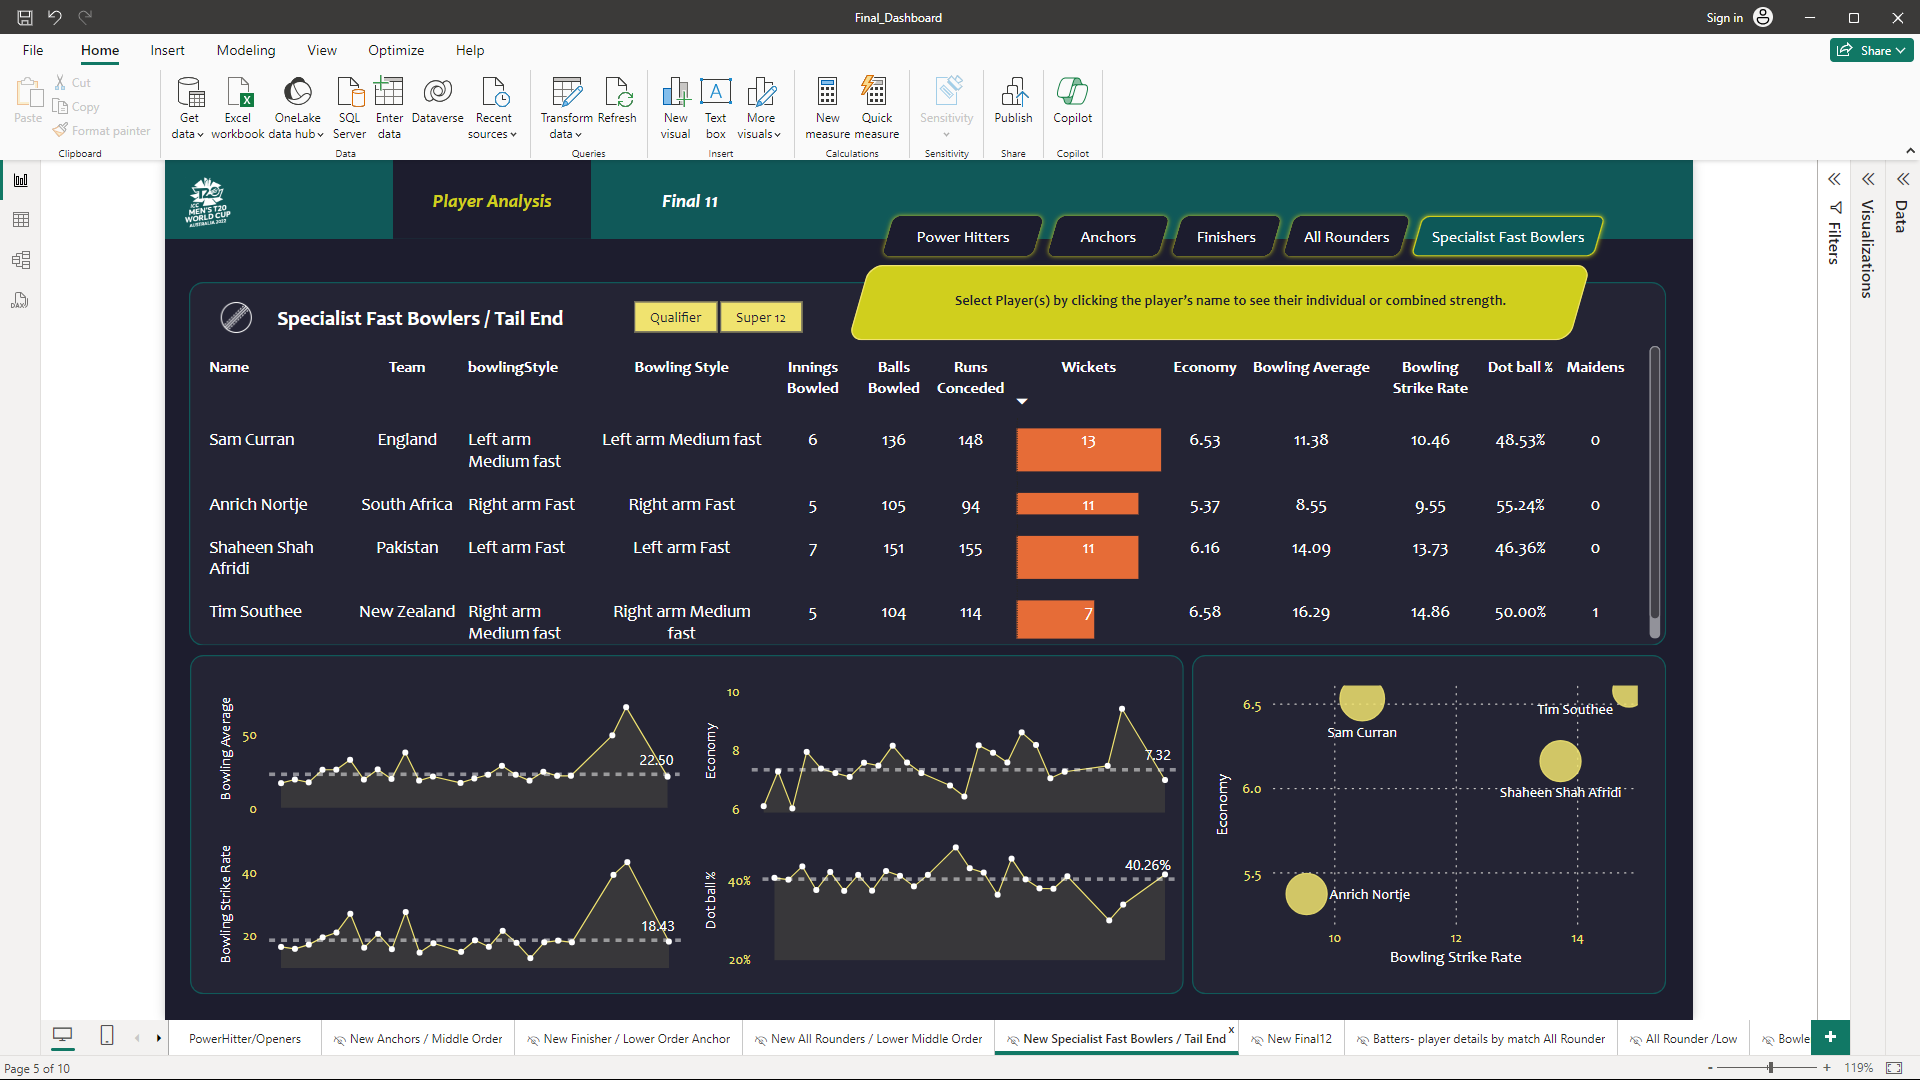

The dashboard page shown, as its layout file describes it:
{"tool":"powerbi","page":{"name":"New Specialist Fast Bowlers / Tail End","canvas":[1280,720],"ordinal":4},"visuals":[{"type":"shape","box":[0,66,1280,654],"z":0},{"type":"group","id":"g1","title":"Group 2","box":[83.8,116.2,260,31.2],"z":0,"group":"g2"},{"type":"shape","box":[83.8,116.2,260,31.2],"z":0,"group":"g1"},{"type":"image","box":[38,114,44,36],"z":1000,"group":"g2"},{"type":"shape","box":[21,414,832,284],"z":1000},{"type":"actionButton","title":"Button Anchores","box":[734,42.6,111,42],"z":2000},{"type":"actionButton","title":"Button  Power Hitters","box":[596,42.6,144,42],"z":3000},{"type":"card","fields":{"Values":["Key_Measures.Bowling Strike Rate"]},"box":[867,89,93,60],"z":3500,"group":"g3"},{"type":"actionButton","title":"Button Finishers","box":[838,42.6,101,42],"z":4000},{"type":"card","fields":{"Values":["Key_Measures.Bowling Average"]},"box":[768,89,92,60],"z":4000,"group":"g3"},{"type":"card","fields":{"Values":["Key_Measures.Dot ball %"]},"box":[1073,89,100,60],"z":4500,"group":"g3"},{"type":"actionButton","title":"Button All Rounders","box":[932,42.6,115,42],"z":5000},{"type":"card","fields":{"Values":["Key_Measures.Economy"]},"box":[966,89,101,60],"z":5000,"group":"g3"},{"type":"actionButton","title":"Button Fast Bowler selected","box":[1039,42.6,171,42],"z":6000},{"type":"image","box":[11.8,6.9,48,58.8],"z":7000},{"type":"shape","box":[860,414,397,284],"z":9000},{"type":"shape","box":[20,102.2,1236.7,304.4],"z":10000},{"type":"slicer","fields":{"Values":["dim_match_summary.stage"]},"box":[366.7,111.1,191.1,38.9],"z":11000},{"type":"tableEx","fields":{"Values":["dim_player.name","Min(dim_player.team)","dim_player.bowlingStyle","Min(dim_player.Bowling Style)","Key_Measures.Total Innings Bowled","Key_Measures.Balls Bowled","Key_Measures.Runs Conceded","Key_Measures.wickets","Key_Measures.Economy","Key_Measures.Bowling Average","Key_Measures.Bowling Strike Rate","Key_Measures.Dot ball %"]},"box":[26,151,1231,255],"z":12000},{"type":"shape","box":[572,88,622,63],"z":13000},{"type":"group","id":"g2","title":"Group 1","box":[38,114,305.8,36],"z":15000},{"type":"scatterChart","fields":{"Category":["dim_player.name"],"X":["Key_Measures.Bowling Strike Rate"],"Y":["Key_Measures.Economy"],"Size":["Key_Measures.wickets"]},"box":[874,427,370,253.8],"z":16000},{"type":"actionButton","title":"Button Player Ana selected","box":[191,0,166,66],"z":17000},{"type":"actionButton","title":"Button Player Ana selected","box":[357,0,166,66],"z":18000},{"type":"areaChart","fields":{"Category":["dim_match_summary.Match_Date.Variation.Date Hierarchy.Day"],"Y":["Key_Measures.Economy"]},"box":[446,430,406,126],"z":19000},{"type":"areaChart","fields":{"Category":["dim_match_summary.Match_Date.Variation.Date Hierarchy.Day"],"Y":["Key_Measures.Dot ball %"]},"box":[446,556,406,126],"z":20000},{"type":"areaChart","fields":{"Category":["dim_match_summary.Match_Date.Variation.Date Hierarchy.Day"],"Y":["Key_Measures.Bowling Average"]},"box":[40,428.9,395.6,126.7],"z":21000},{"type":"areaChart","fields":{"Category":["dim_match_summary.Match_Date.Variation.Date Hierarchy.Day"],"Y":["Key_Measures.Bowling Strike Rate"]},"box":[40,555.6,396.7,125.6],"z":22000},{"type":"shape","box":[595,103,173,34],"z":25000},{"type":"group","id":"g3","title":"Combined Perfoamce Metrices","box":[768,89,405,60],"z":25500},{"type":"shape","box":[612,100,560,36],"z":26001}]}

Visuals, with their boxes on the page's 1280x720 design canvas (x1, y1, x2, y2). These are canvas units, not pixel positions in the 1920x1080 screenshot, which may show the page scaled, cropped or inside an application window:
shape: pyautogui.locateOnScreen(0, 66, 1280, 720)
"Group 2" group: pyautogui.locateOnScreen(84, 116, 344, 147)
shape: pyautogui.locateOnScreen(84, 116, 344, 147)
image: pyautogui.locateOnScreen(38, 114, 82, 150)
shape: pyautogui.locateOnScreen(21, 414, 853, 698)
"Button Anchores" actionButton: pyautogui.locateOnScreen(734, 43, 845, 85)
"Button  Power Hitters" actionButton: pyautogui.locateOnScreen(596, 43, 740, 85)
card - Key_Measures.Bowling Strike Rate: pyautogui.locateOnScreen(867, 89, 960, 149)
"Button Finishers" actionButton: pyautogui.locateOnScreen(838, 43, 939, 85)
card - Key_Measures.Bowling Average: pyautogui.locateOnScreen(768, 89, 860, 149)
card - Key_Measures.Dot ball %: pyautogui.locateOnScreen(1073, 89, 1173, 149)
"Button All Rounders" actionButton: pyautogui.locateOnScreen(932, 43, 1047, 85)
card - Key_Measures.Economy: pyautogui.locateOnScreen(966, 89, 1067, 149)
"Button Fast Bowler selected" actionButton: pyautogui.locateOnScreen(1039, 43, 1210, 85)
image: pyautogui.locateOnScreen(12, 7, 60, 66)
shape: pyautogui.locateOnScreen(860, 414, 1257, 698)
shape: pyautogui.locateOnScreen(20, 102, 1257, 407)
slicer - dim_match_summary.stage: pyautogui.locateOnScreen(367, 111, 558, 150)
tableEx - dim_player.name x Min(dim_player.team): pyautogui.locateOnScreen(26, 151, 1257, 406)
shape: pyautogui.locateOnScreen(572, 88, 1194, 151)
"Group 1" group: pyautogui.locateOnScreen(38, 114, 344, 150)
scatterChart - dim_player.name x Key_Measures.Bowling Strike Rate: pyautogui.locateOnScreen(874, 427, 1244, 681)
"Button Player Ana selected" actionButton: pyautogui.locateOnScreen(191, 0, 357, 66)
"Button Player Ana selected" actionButton: pyautogui.locateOnScreen(357, 0, 523, 66)
areaChart - dim_match_summary.Match_Date.Variation.Date Hierarchy.Day x Key_Measures.Economy: pyautogui.locateOnScreen(446, 430, 852, 556)
areaChart - dim_match_summary.Match_Date.Variation.Date Hierarchy.Day x Key_Measures.Dot ball %: pyautogui.locateOnScreen(446, 556, 852, 682)
areaChart - dim_match_summary.Match_Date.Variation.Date Hierarchy.Day x Key_Measures.Bowling Average: pyautogui.locateOnScreen(40, 429, 436, 556)
areaChart - dim_match_summary.Match_Date.Variation.Date Hierarchy.Day x Key_Measures.Bowling Strike Rate: pyautogui.locateOnScreen(40, 556, 437, 681)
shape: pyautogui.locateOnScreen(595, 103, 768, 137)
"Combined Perfoamce Metrices" group: pyautogui.locateOnScreen(768, 89, 1173, 149)
shape: pyautogui.locateOnScreen(612, 100, 1172, 136)
